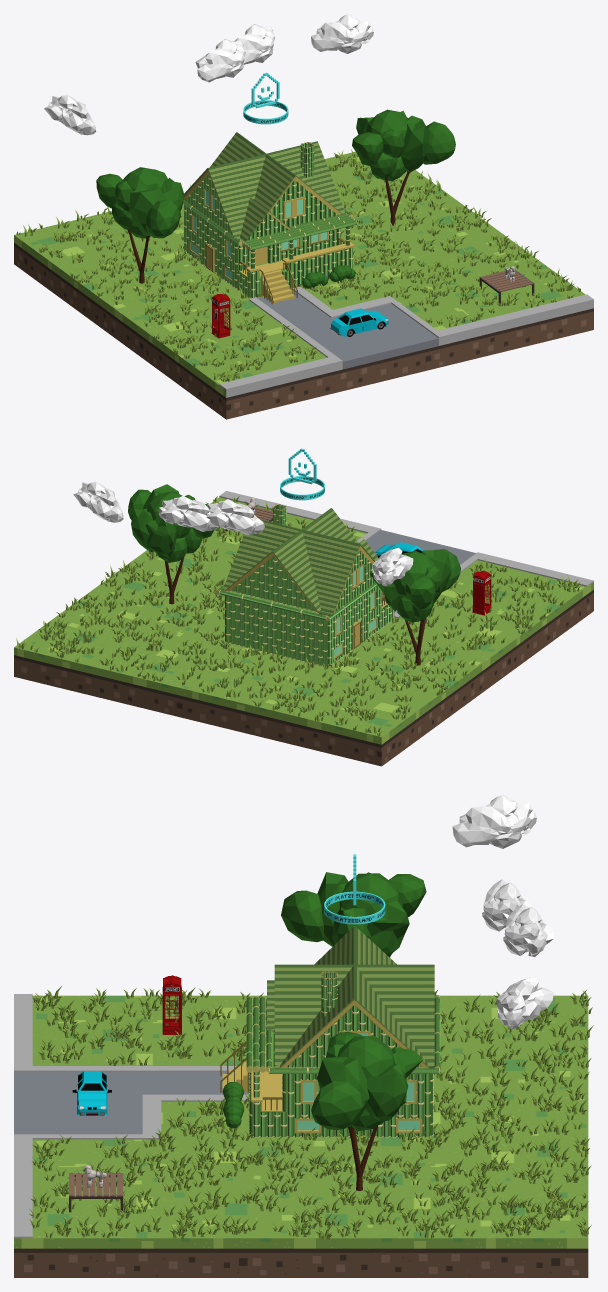
3 views of the same model, one above another, from view 1: azimuth 30°, elevation 25°; view 2: azimuth 150°, elevation 25°; view 3: azimuth 270°, elevation 25° (orthographic). The views are drawn at different scales.
Parts seen in each view (by area): view 1: Cube.006, Cube.1327, Circle.012_Grass_0.192, Cube.007, tree, tree.001, VEHICLES_CAR, TYPE_PREMIUM, OBJRANDOM_PHONEBOOTH, Cube.009; view 2: Cube.006, Cube.1327, Circle.012_Grass_0.192, Cube.007, tree.001, tree, TYPE_PREMIUM, OBJRANDOM_PHONEBOOTH; view 3: Cube.006, Circle.012_Grass_0.192, Cube.1327, tree, Cube.007, tree.001, VEHICLES_CAR, Cube.009, TYPE_PREMIUM, OBJRANDOM_PHONEBOOTH.
Boxes of the visible parts, box(x1,y1,x2,y2) form: Cube.006: box(14, 151, 593, 419); Cube.1327: box(183, 132, 357, 304); Circle.012_Grass_0.192: box(16, 149, 580, 381); Cube.007: box(44, 14, 373, 135); tree: box(352, 109, 455, 225); tree.001: box(96, 167, 184, 283); VEHICLES_CAR: box(330, 308, 388, 336); TYPE_PREMIUM: box(243, 72, 288, 124); OBJRANDOM_PHONEBOOTH: box(211, 294, 230, 338); Cube.009: box(479, 269, 534, 303); Cube.006: box(14, 491, 593, 766); Cube.1327: box(215, 504, 394, 667); Circle.012_Grass_0.192: box(16, 496, 580, 736); Cube.007: box(73, 481, 413, 586); tree.001: box(370, 549, 460, 665); tree: box(128, 484, 214, 604); TYPE_PREMIUM: box(280, 448, 324, 500); OBJRANDOM_PHONEBOOTH: box(472, 571, 491, 615); Cube.006: box(14, 994, 588, 1277); Circle.012_Grass_0.192: box(29, 986, 593, 1239); Cube.1327: box(220, 926, 440, 1138); tree: box(311, 1032, 422, 1190); Cube.007: box(452, 795, 553, 1029); tree.001: box(281, 872, 426, 957); VEHICLES_CAR: box(72, 1071, 111, 1115); Cube.009: box(69, 1172, 122, 1212); TYPE_PREMIUM: box(324, 854, 385, 924); OBJRANDOM_PHONEBOOTH: box(162, 975, 181, 1034).
Bounding box in the file's own units: 4071 × 2300 × 4040.
Materials: 41 (5 with a texture image).
